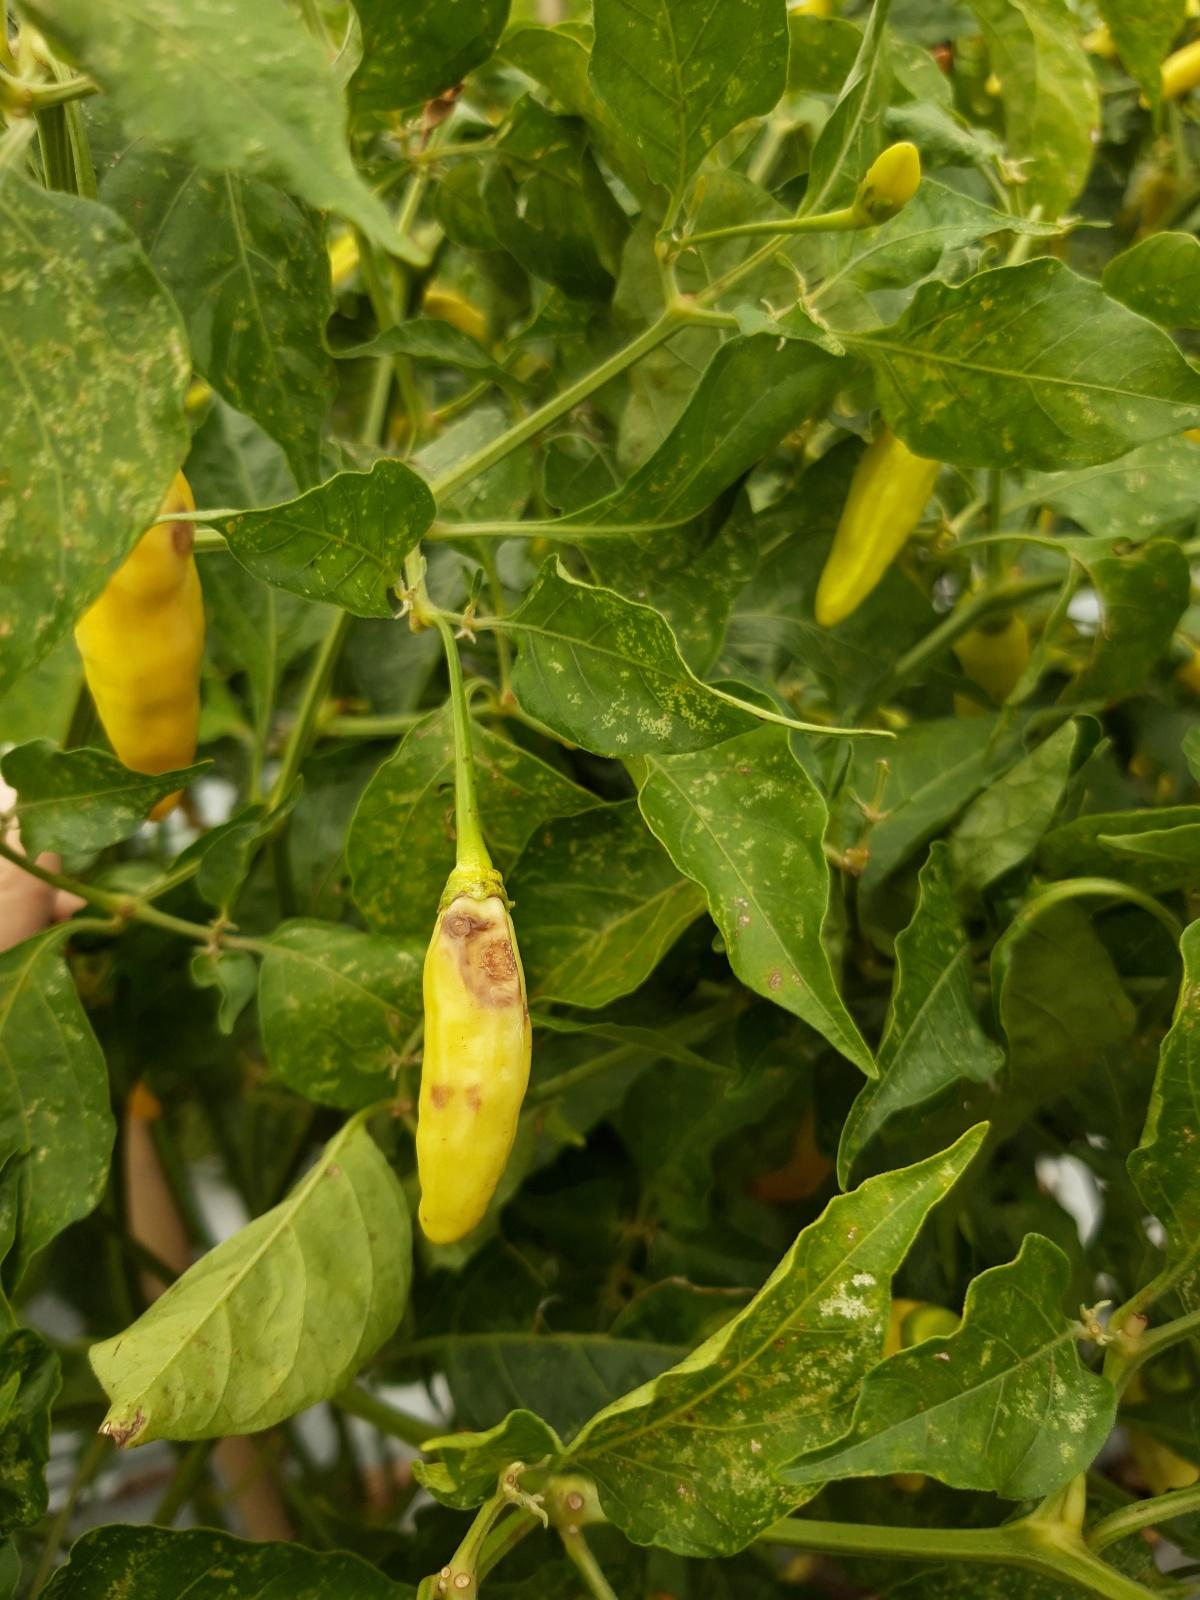cabai_normal: (815, 426, 940, 626), (853, 142, 920, 224)
lalat_buah: (76, 464, 206, 824), (416, 866, 532, 1244)
